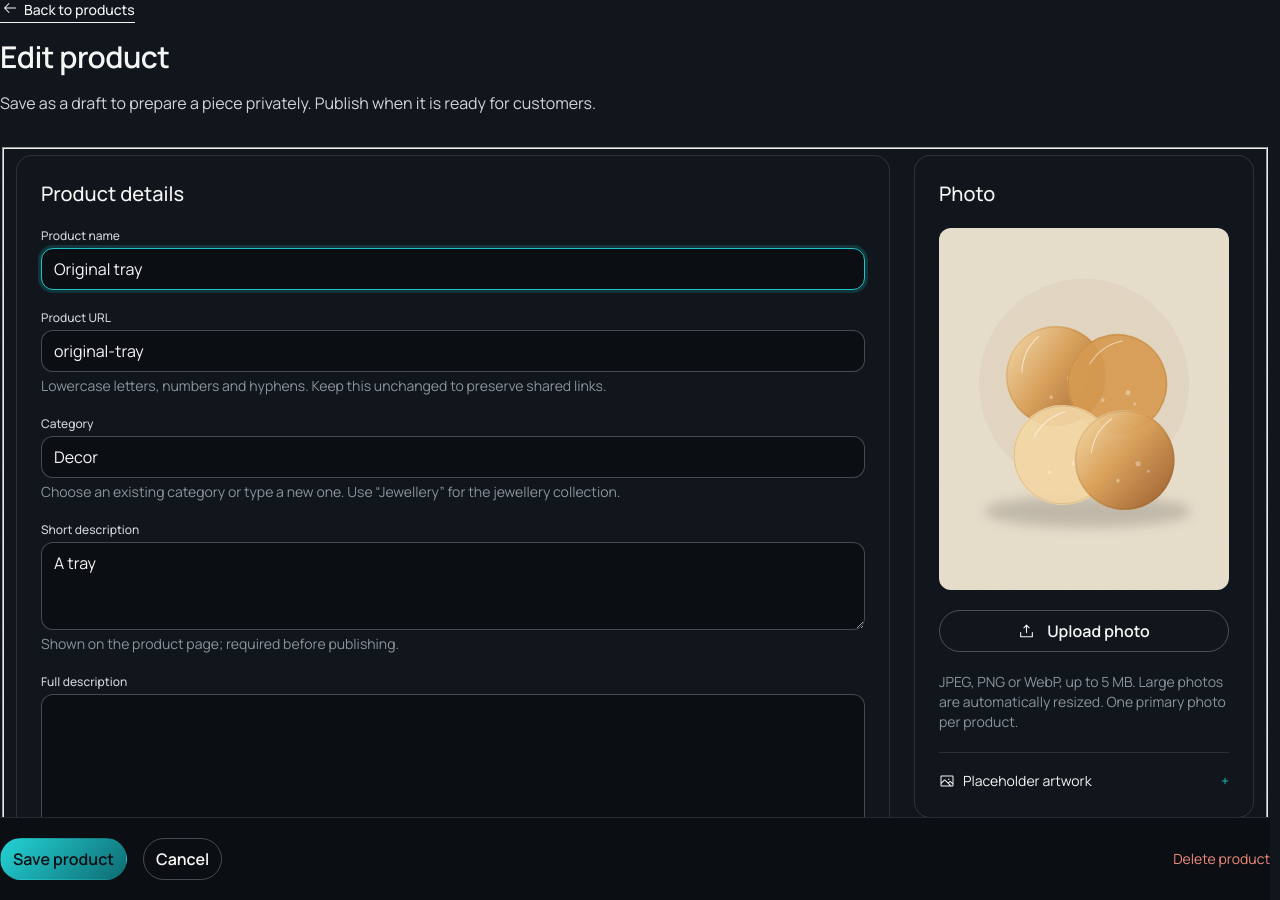
owner product editor › confirms unsaved cancellation instead of discarding a form silently
Replace the text in the field labelled "Product name" with "Changed". click: (453, 269)
box: [41,248,865,290]
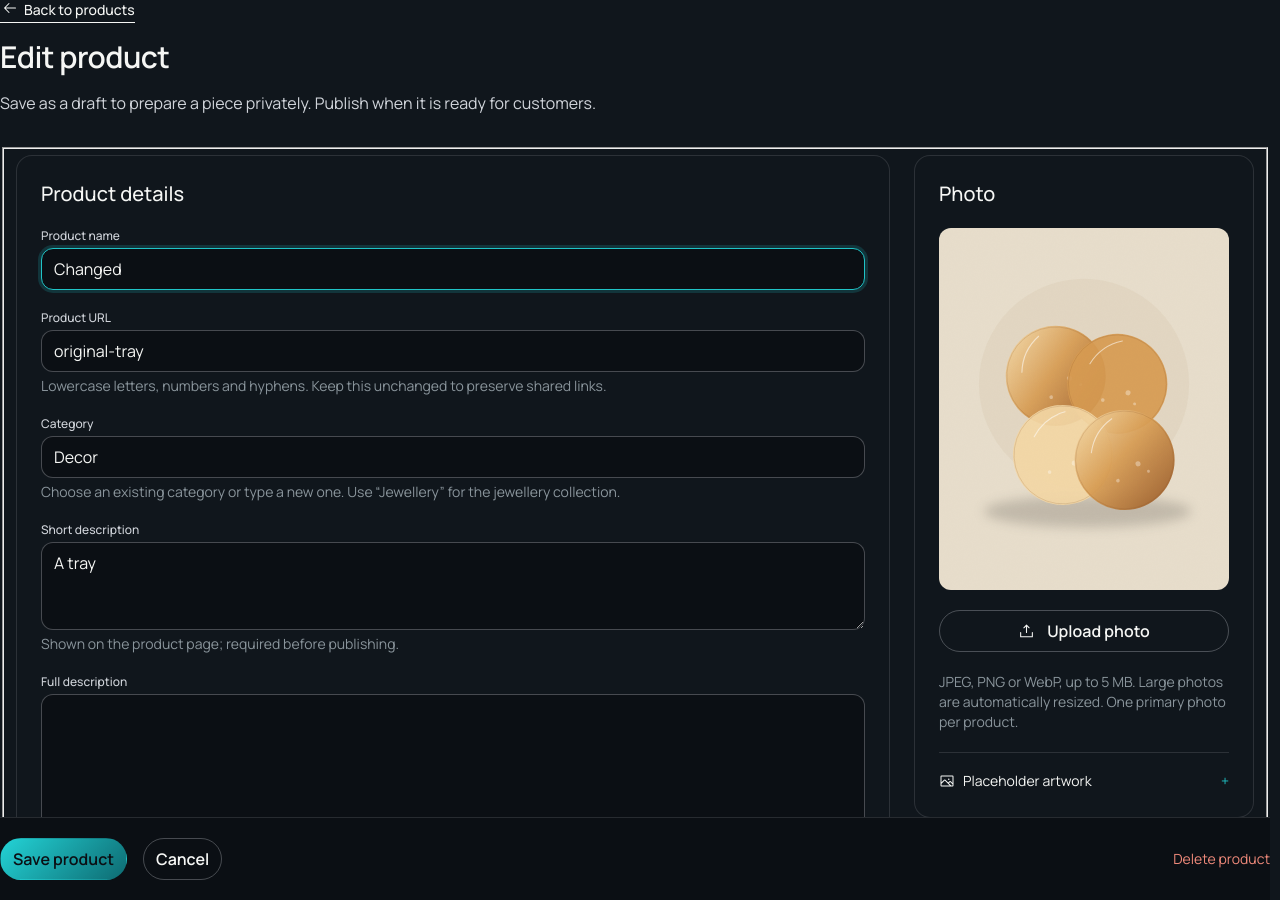
Click the button "Cancel". click: (183, 859)
box: [143,838,222,880]
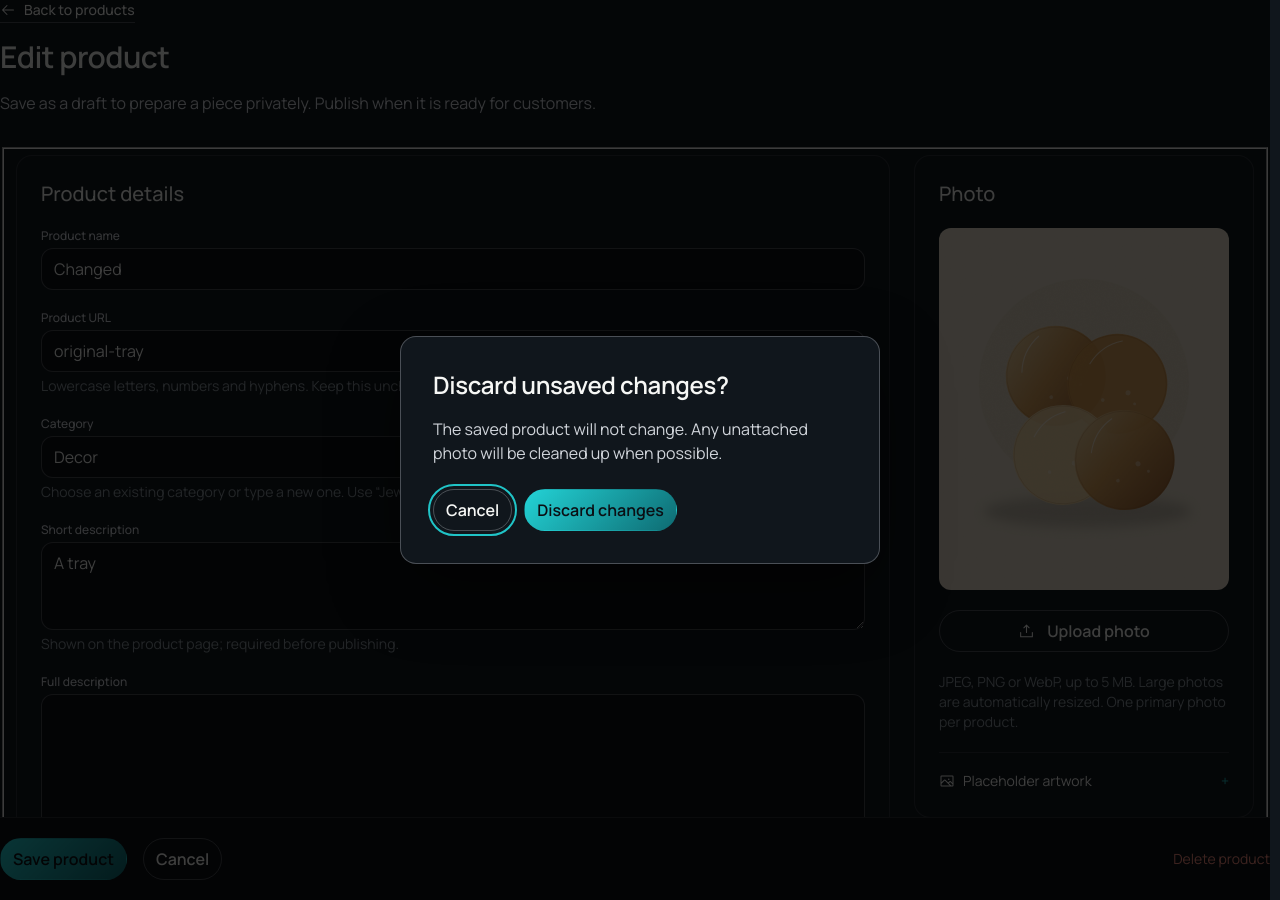
Now the heading "Discard unsaved changes?" is shown, box [433,368,728,401]
